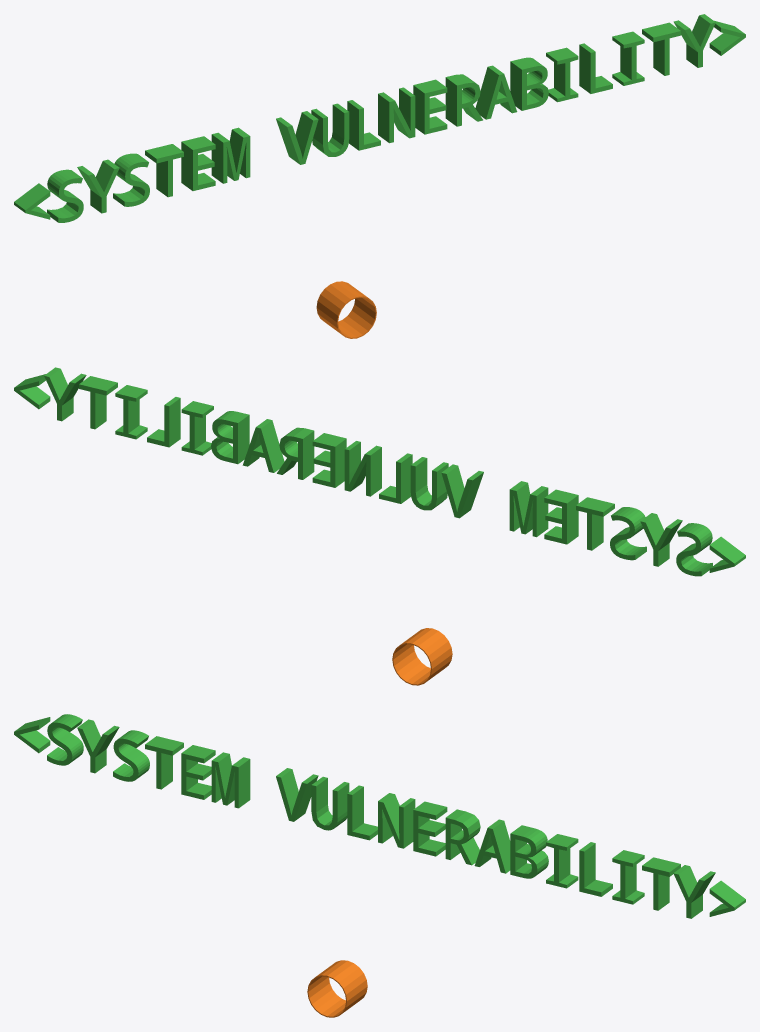
The model's file is tinker.obj.
The picture shows the model from 3 angles, top to bottom: view 1: azimuth 30°, elevation 25°; view 2: azimuth 150°, elevation 25°; view 3: azimuth 330°, elevation 25°; orthographic projection.
Parts seen in each view (by area): view 1: group_0_4634441, group_0_16089887; view 2: group_0_4634441, group_0_16089887; view 3: group_0_4634441, group_0_16089887.
Boxes of the visible parts, box(x1,y1,x2,y2) form: group_0_4634441: box(14, 14, 745, 222); group_0_16089887: box(316, 281, 376, 338); group_0_4634441: box(14, 367, 745, 576); group_0_16089887: box(392, 628, 452, 685); group_0_4634441: box(14, 714, 745, 918); group_0_16089887: box(307, 960, 367, 1017).
Bounding box in the file's own units: 363 × 106 × 18.
